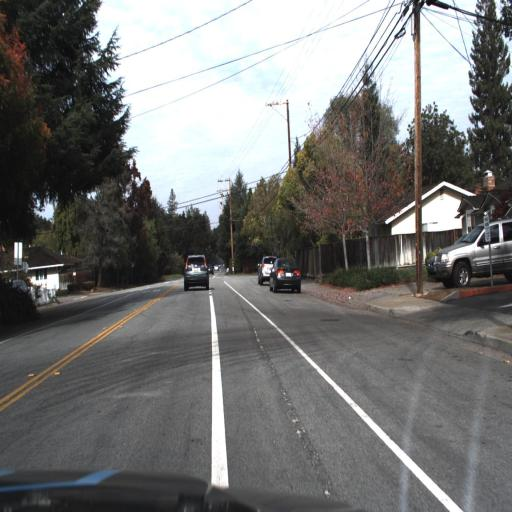car: (434, 217, 512, 291), (177, 246, 215, 297), (266, 252, 307, 296), (255, 249, 279, 284), (254, 251, 273, 290)
